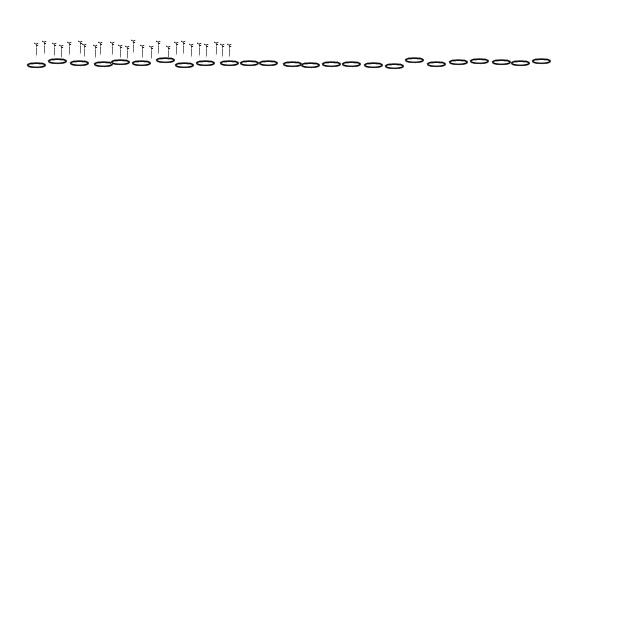chain: (92, 60, 116, 70), (154, 56, 178, 66), (320, 60, 344, 70), (340, 60, 364, 70), (490, 58, 514, 68), (110, 58, 132, 68), (282, 60, 304, 70), (384, 62, 406, 72), (404, 56, 426, 66), (426, 60, 448, 70), (448, 58, 470, 68), (46, 58, 70, 66), (68, 60, 92, 68), (130, 60, 154, 68), (194, 60, 218, 68), (218, 60, 242, 68), (238, 60, 262, 68), (362, 62, 386, 70), (468, 58, 492, 66), (530, 58, 554, 66), (26, 62, 48, 70), (174, 62, 196, 70), (258, 60, 280, 68), (300, 62, 322, 70), (510, 60, 532, 68)
double treble: (34, 42, 40, 58), (42, 40, 48, 56), (52, 42, 58, 58), (78, 40, 84, 56), (118, 44, 124, 60), (140, 44, 146, 60), (156, 40, 162, 56), (82, 44, 88, 58), (98, 42, 104, 56), (110, 42, 116, 56), (166, 46, 172, 60), (174, 42, 180, 56), (204, 44, 210, 58), (214, 42, 220, 56), (220, 44, 226, 58), (60, 44, 64, 60), (94, 44, 98, 60), (182, 40, 186, 56), (198, 42, 202, 58), (68, 42, 72, 56), (126, 46, 130, 60), (132, 40, 136, 54), (150, 46, 154, 60), (190, 44, 194, 58), (228, 44, 232, 58)
